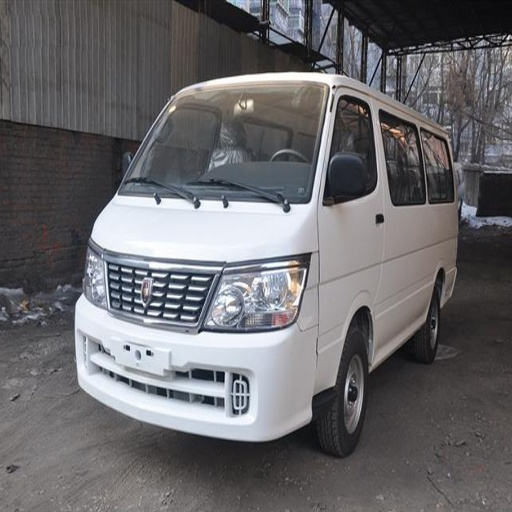front_bumper: (78, 250, 346, 440)
front_glass: (121, 82, 328, 202)
front_left_door: (324, 92, 412, 355)
front_right_light: (85, 244, 109, 307)
